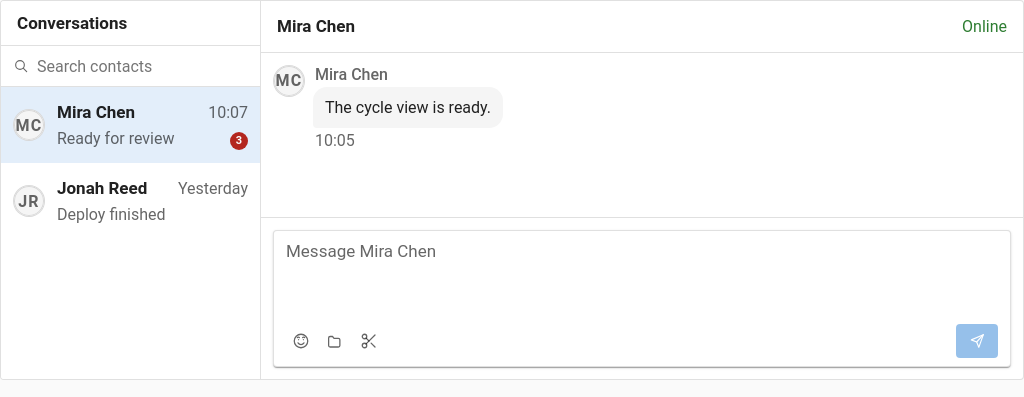
Test: chat conversations › filters the transcript by conversationId
expect the text "The cycle view is ready." is shown: met, box 325,96 -> 491,119
expect the text "Deploy finished, logs attached." is not shown: met
Click the option "JR Jonah Reed Yesterday Deploy finished" at (29, 201), box 1,163 -> 260,239
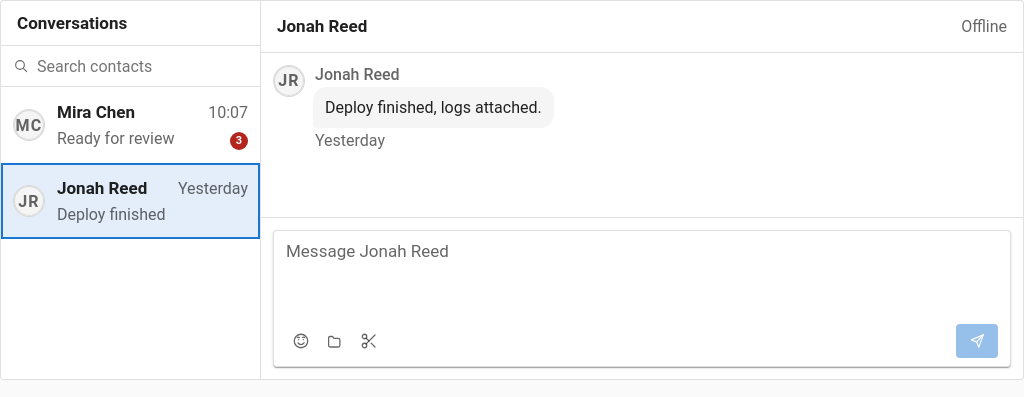
expect the text "Deploy finished, logs attached." is shown: met, box 325,96 -> 542,119
expect the text "The cycle view is ready." is gone: met
